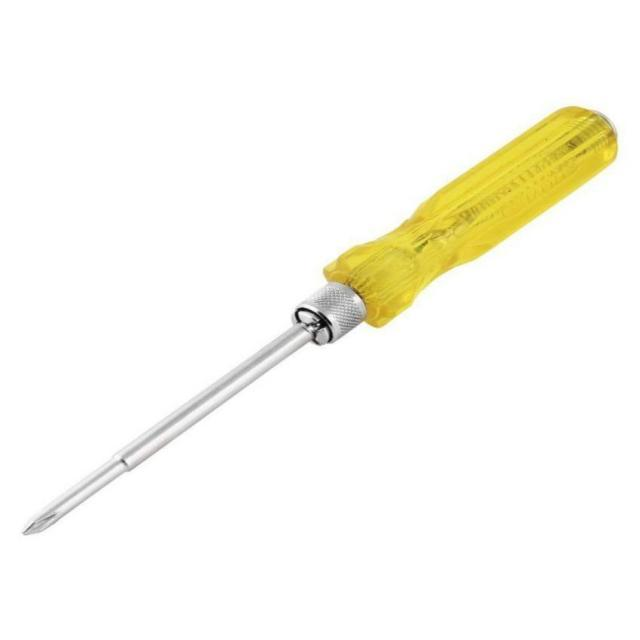screwdriver: (17, 103, 624, 547)
